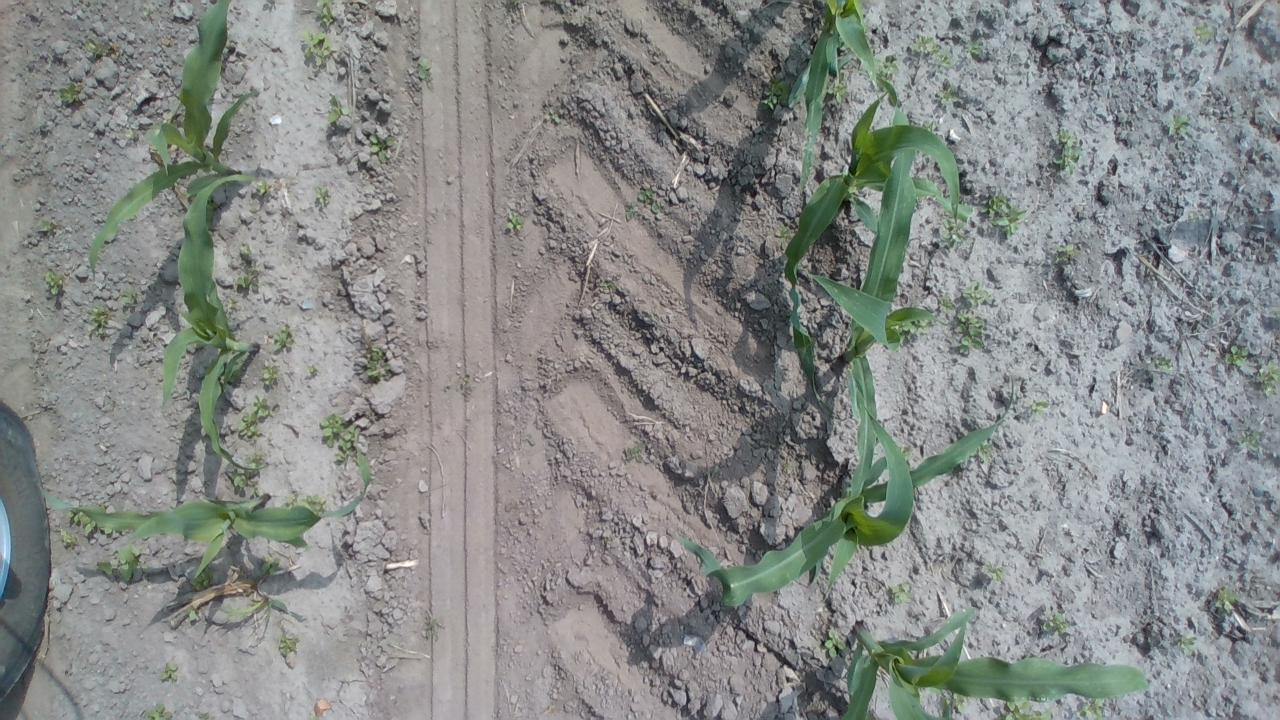Maize: (676, 374, 1016, 604), (782, 88, 960, 411), (812, 108, 953, 497), (88, 0, 260, 276), (39, 452, 373, 576), (839, 605, 1149, 720), (160, 174, 256, 472), (788, 0, 908, 193)
Weeds: (979, 193, 1026, 239), (94, 543, 150, 580), (318, 412, 358, 462), (66, 502, 115, 536), (908, 34, 952, 70), (238, 396, 270, 441), (998, 694, 1052, 720), (1051, 130, 1081, 176), (302, 29, 338, 67), (955, 310, 987, 352), (364, 345, 392, 380), (762, 80, 792, 110), (1257, 360, 1280, 398), (229, 467, 258, 496), (190, 560, 218, 590), (368, 134, 396, 164), (940, 217, 967, 248), (820, 628, 845, 658), (877, 53, 900, 85), (328, 95, 353, 124), (892, 320, 932, 338), (234, 264, 259, 292), (1042, 610, 1070, 635), (962, 282, 991, 306), (271, 324, 296, 350), (1216, 586, 1240, 613), (90, 302, 110, 334), (826, 72, 846, 104), (298, 494, 328, 515), (56, 81, 82, 104), (1053, 244, 1082, 264), (1224, 346, 1250, 368), (1078, 698, 1104, 720), (44, 268, 64, 296), (638, 188, 661, 212), (971, 440, 993, 464), (1167, 114, 1191, 136), (85, 38, 112, 57), (316, 0, 334, 27), (1238, 430, 1260, 452), (983, 561, 1006, 582), (890, 582, 913, 603), (946, 690, 966, 714), (504, 210, 526, 231), (143, 704, 171, 720), (260, 554, 280, 576), (414, 56, 432, 80), (260, 364, 280, 385), (1176, 635, 1196, 656), (624, 444, 646, 463), (252, 178, 273, 197), (278, 633, 297, 654), (1194, 23, 1215, 42), (964, 38, 982, 60), (1029, 399, 1050, 417), (120, 286, 138, 306), (939, 293, 956, 314), (936, 86, 958, 102), (160, 662, 179, 680), (1154, 356, 1173, 374), (542, 107, 560, 125), (774, 224, 791, 243), (244, 452, 264, 468), (58, 529, 78, 544), (314, 185, 329, 204), (278, 494, 298, 508), (37, 218, 54, 234), (624, 202, 638, 221), (920, 118, 936, 134), (426, 616, 438, 637), (188, 605, 200, 623), (899, 445, 912, 461), (228, 370, 243, 382), (124, 128, 139, 139), (240, 246, 253, 255), (306, 364, 316, 375), (141, 7, 152, 16), (600, 280, 612, 288), (711, 464, 720, 474), (200, 714, 210, 720), (309, 714, 319, 720), (783, 464, 791, 470)
